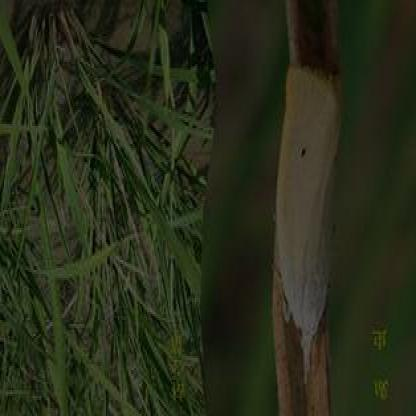stem-borer: (272, 60, 344, 388)
